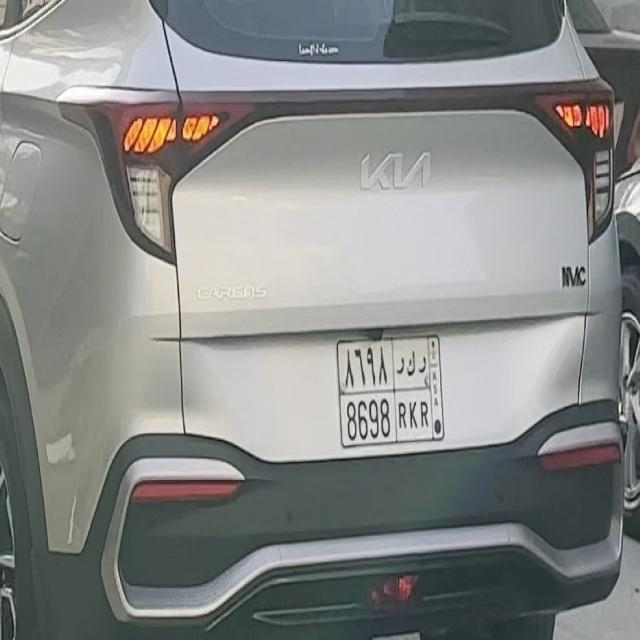Car-plate: (330, 316, 450, 453)
